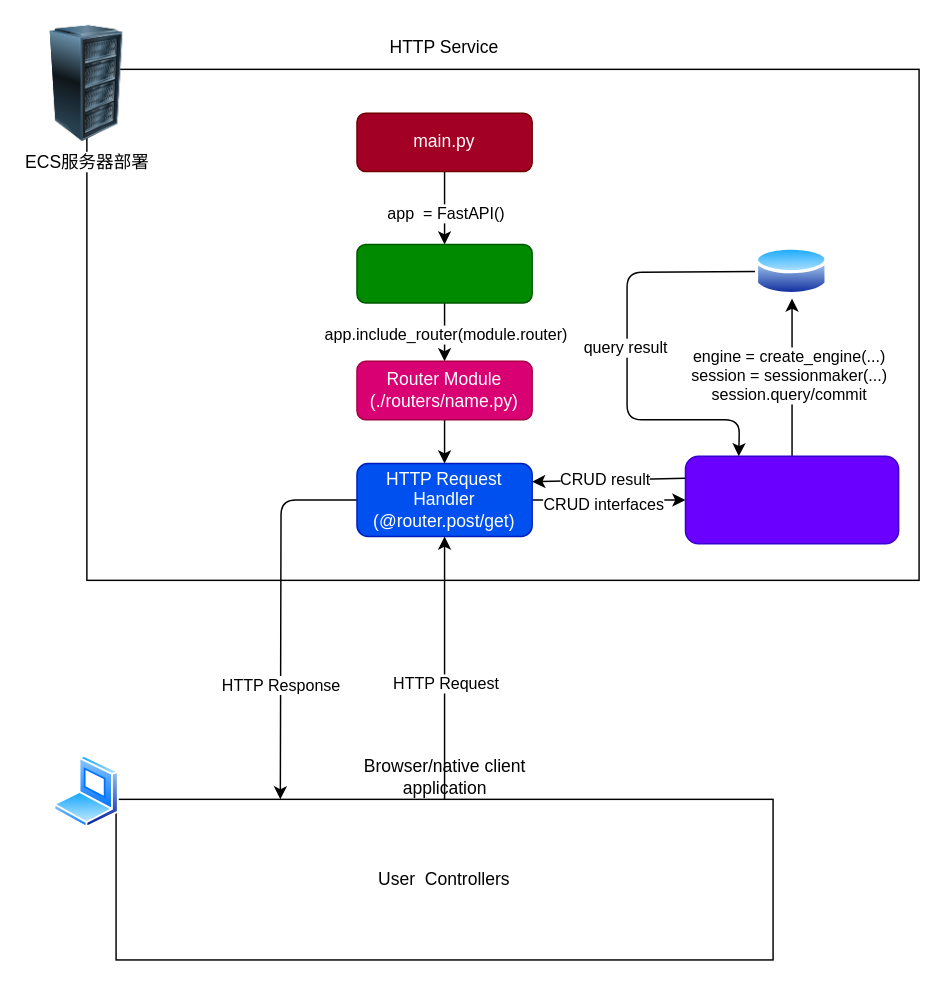
This 945x986 diagram has some shape labels left out. The centre of each missing label's shape, as x and y in pixels:
"Client SIde" belongs at point (86, 791).
"Database Module (./database/database.py)" belongs at point (791, 499).
"FastAPI Application" belongs at point (444, 273).
